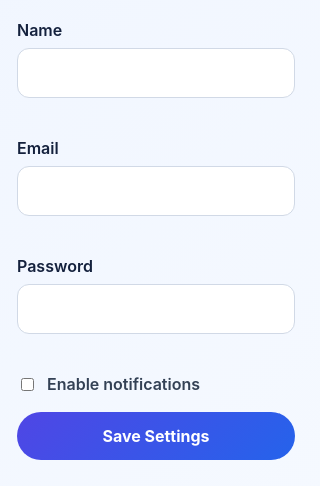
Test: SettingsForm › shows errors on empty submission
Click the button "Save Settings" at (156, 436), box [17,412,295,460]
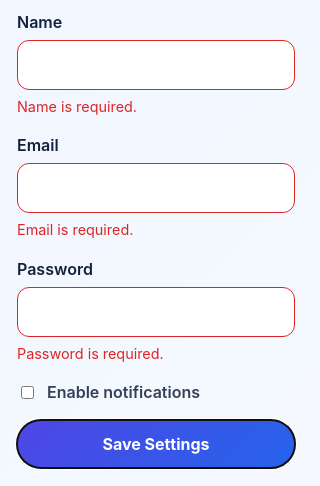
Result: the text "Name is required." is shown at [17,98,137,115]
Result: the text "Email is required." is shown at [17,221,133,238]
Result: the text "Password is required." is shown at [17,345,164,362]
